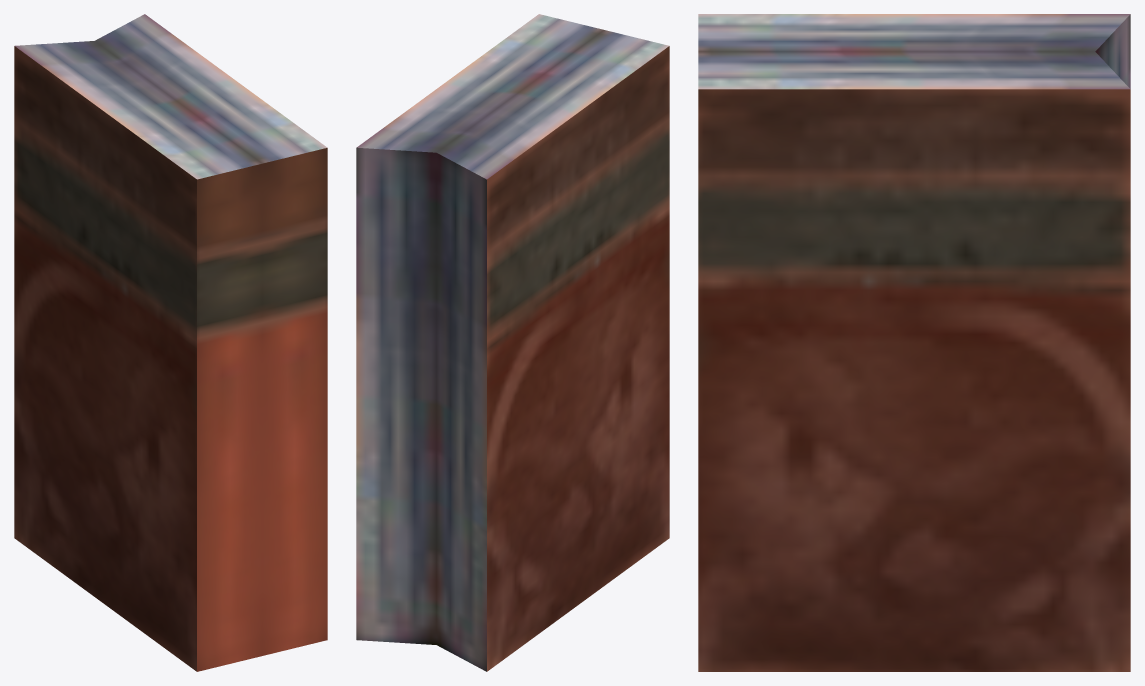
Rendered from F_shu003.fbx.
3 renders of one model, left to right at view 1: azimuth 30°, elevation 25°; view 2: azimuth 150°, elevation 25°; view 3: azimuth 270°, elevation 25°, orthographic. The views are drawn at different scales.
Visible parts, largest first — view 1: F_shu003; view 2: F_shu003; view 3: F_shu003.
Part boxes in pixels (x1=…): F_shu003: x1=14, y1=14, x2=327, y2=671; F_shu003: x1=356, y1=14, x2=669, y2=671; F_shu003: x1=698, y1=14, x2=1130, y2=671.
Bounding box in the file's own units: 13.85 × 49.93 × 33.58.
